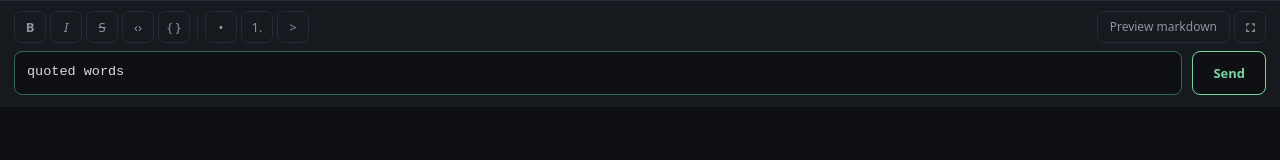
the quote button › prefixes the line, and takes the prefix off again
The width and height of the screenshot is (1280, 160).
Step 1. Click the button named "Quote" → (293, 27), box [277, 11, 309, 43]
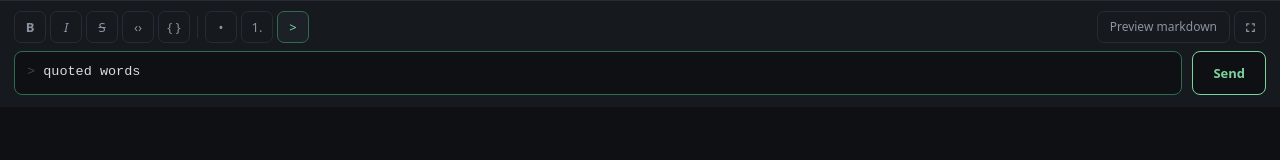
Now the text box with class "cm-line" reads "> quoted words", box [27, 64, 140, 79]
Step 2. Click the button named "Quote" → (293, 27), box [277, 11, 309, 43]
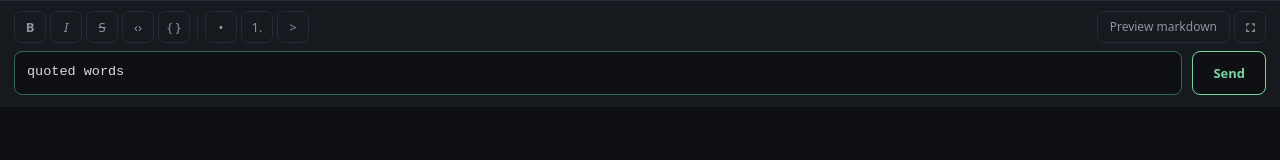
Now the text box with class "cm-line" reads "quoted words", box [27, 64, 124, 79]
